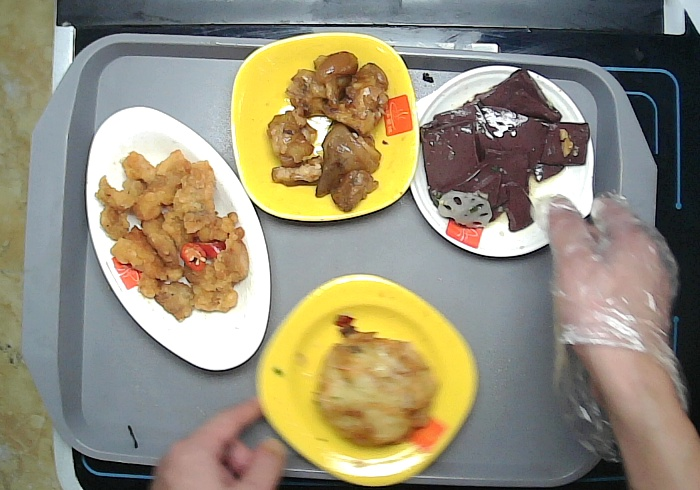SHKJ-Bao_Yu_Pan: (403, 64, 596, 258)
SHKJ-Huang_Se_Cai_Die: (227, 33, 422, 224)
SHKJ-Huang_Se_Si_Fang_Cai_Die: (253, 272, 482, 487)
SHKJ-Yu_Pan: (84, 106, 273, 372)
